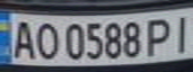0: (60, 20, 84, 61)
5: (81, 19, 106, 61)
8: (121, 18, 148, 60), (103, 19, 124, 60)
A: (6, 17, 39, 60)
I: (169, 11, 193, 53)
O: (30, 19, 60, 61)
P: (142, 15, 175, 56)
